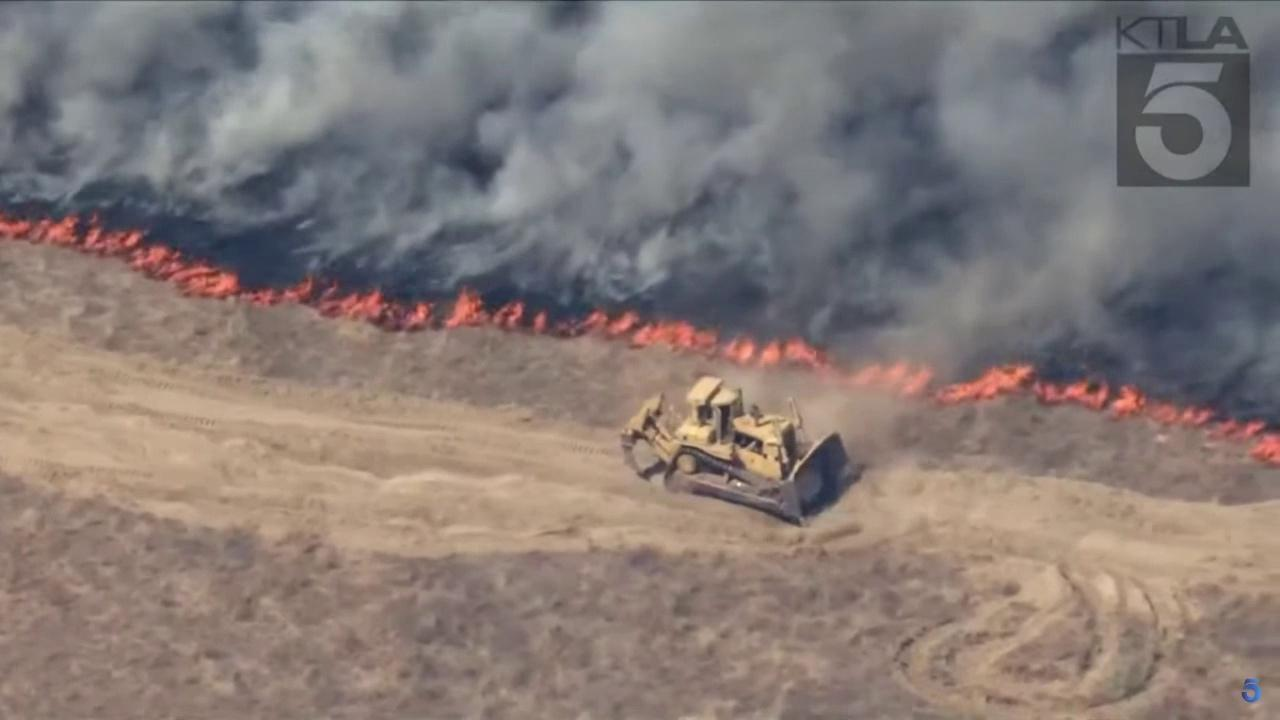fire: (532, 306, 1280, 469), (0, 208, 524, 333)
smoke: (0, 0, 1280, 410)
